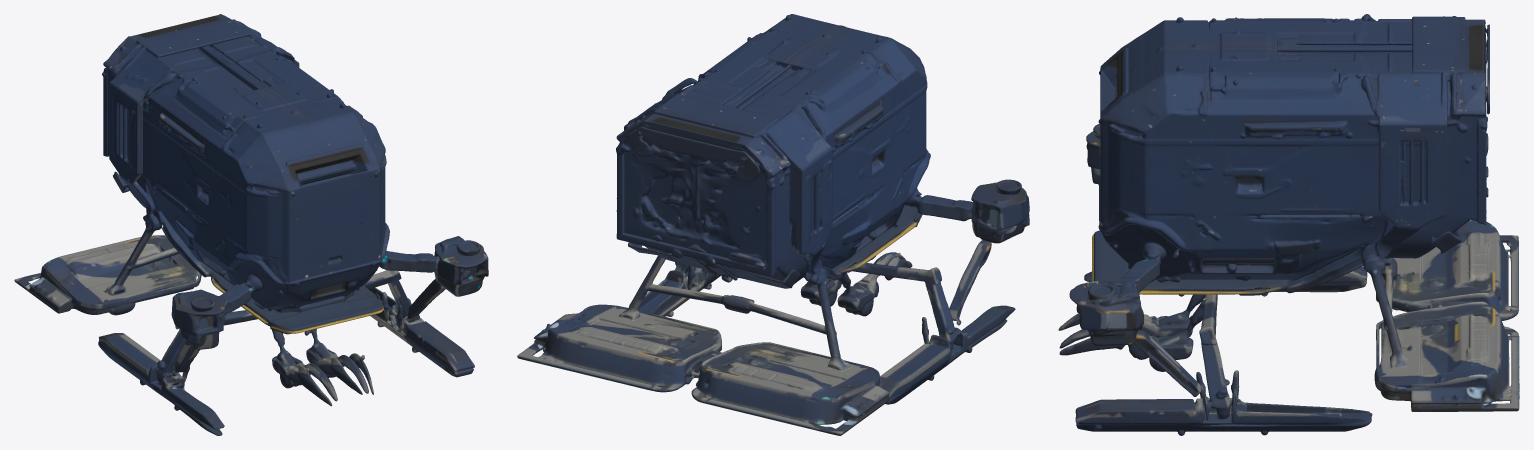
Rendered from tripo_convert_704a790d-4736-4007-83fc-5e59678ce25e.fbx.
The picture shows the model from 3 angles, left to right: view 1: azimuth 30°, elevation 25°; view 2: azimuth 150°, elevation 25°; view 3: azimuth 270°, elevation 25°; orthographic projection. The views are drawn at different scales.
Visible parts, largest first — view 1: tripo_node_704a790d; view 2: tripo_node_704a790d; view 3: tripo_node_704a790d.
Part boxes in pixels (x1=…): tripo_node_704a790d: x1=14, y1=14, x2=488, y2=435; tripo_node_704a790d: x1=517, y1=14, x2=1029, y2=435; tripo_node_704a790d: x1=1058, y1=14, x2=1519, y2=435.
Size of the model in its own units: 0.9087 by 0.7677 by 1.
1 material, 1 textured.
